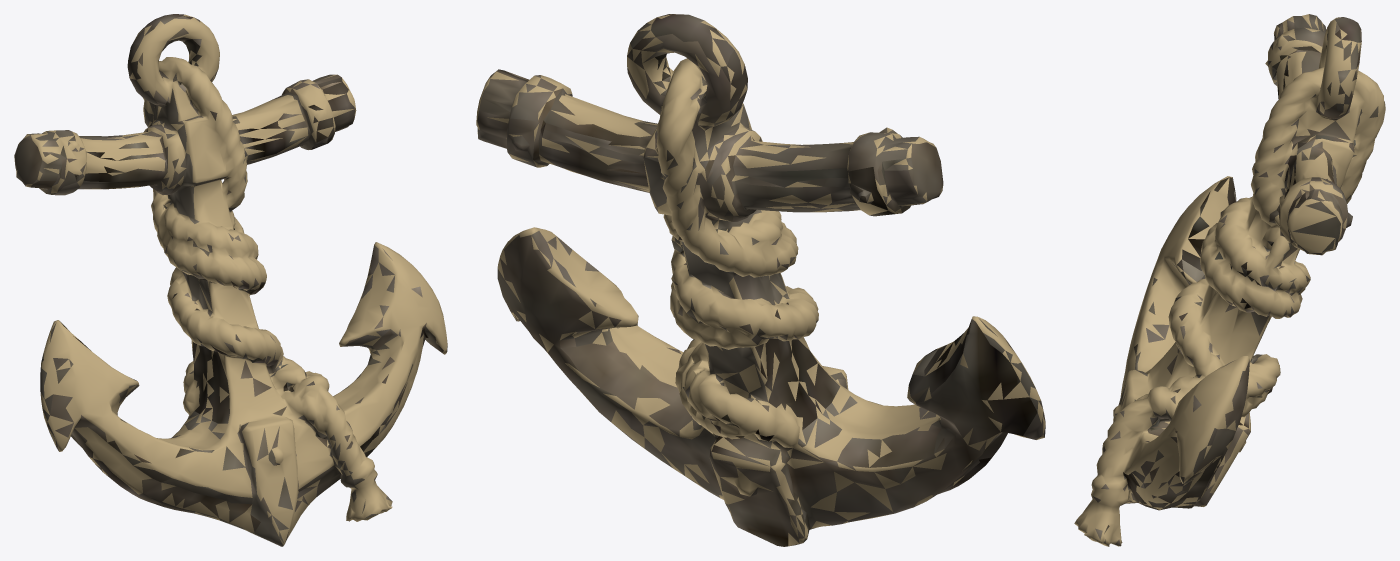
File: ship-anchor.glb
3 views of the same model, side by side, from view 1: azimuth 30°, elevation 25°; view 2: azimuth 150°, elevation 25°; view 3: azimuth 270°, elevation 25° (orthographic). The views are drawn at different scales.
Visible parts, largest first — view 1: ship-anchor; view 2: ship-anchor; view 3: ship-anchor.
Part boxes in pixels (x1,y1,x2,y2): ship-anchor: [14, 14, 447, 546]; ship-anchor: [476, 14, 1045, 546]; ship-anchor: [1074, 14, 1385, 546].
Size of the model in its own units: 4.52 by 4.82 by 2.81.
3 materials, 2 textured.
